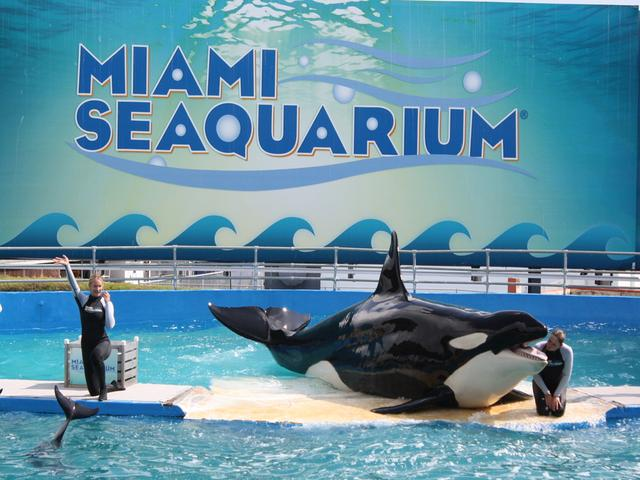dolphin: (170, 236, 625, 410)
